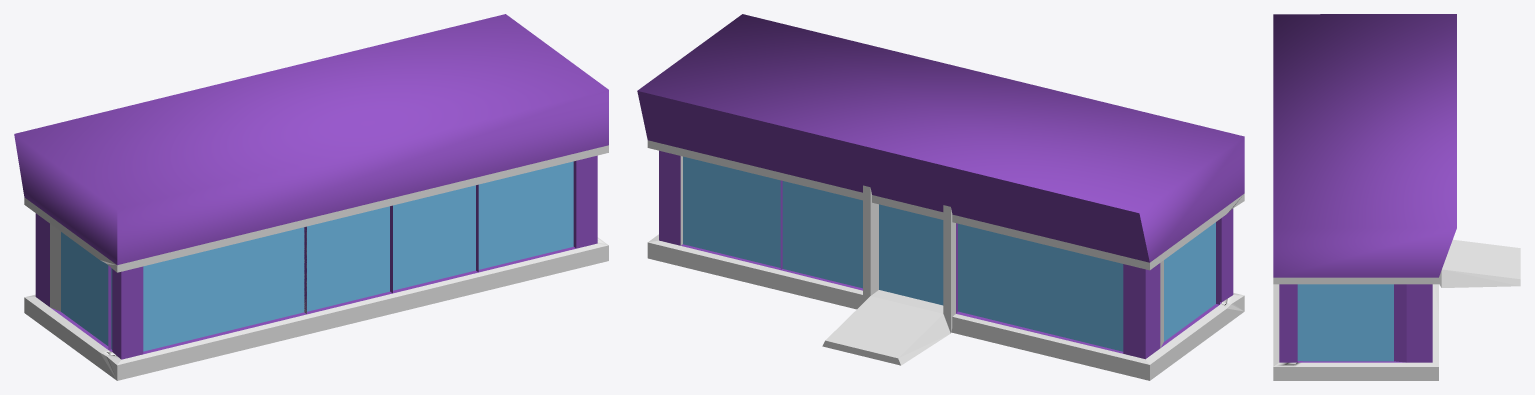
Rendered from Shop6x2x2Purple.fbx.
3 renders of one model, left to right at view 1: azimuth 30°, elevation 25°; view 2: azimuth 150°, elevation 25°; view 3: azimuth 270°, elevation 25°, orthographic. The views are drawn at different scales.
Parts seen in each view (by area): view 1: Shop.001; view 2: Shop.001; view 3: Shop.001.
Part boxes in pixels (x1=…): Shop.001: x1=14, y1=14, x2=608, y2=380; Shop.001: x1=637, y1=14, x2=1244, y2=380; Shop.001: x1=1273, y1=14, x2=1520, y2=380.
Bounding box in the file's own units: 5.94 × 1.98 × 2.91.
1 material, 1 textured.
